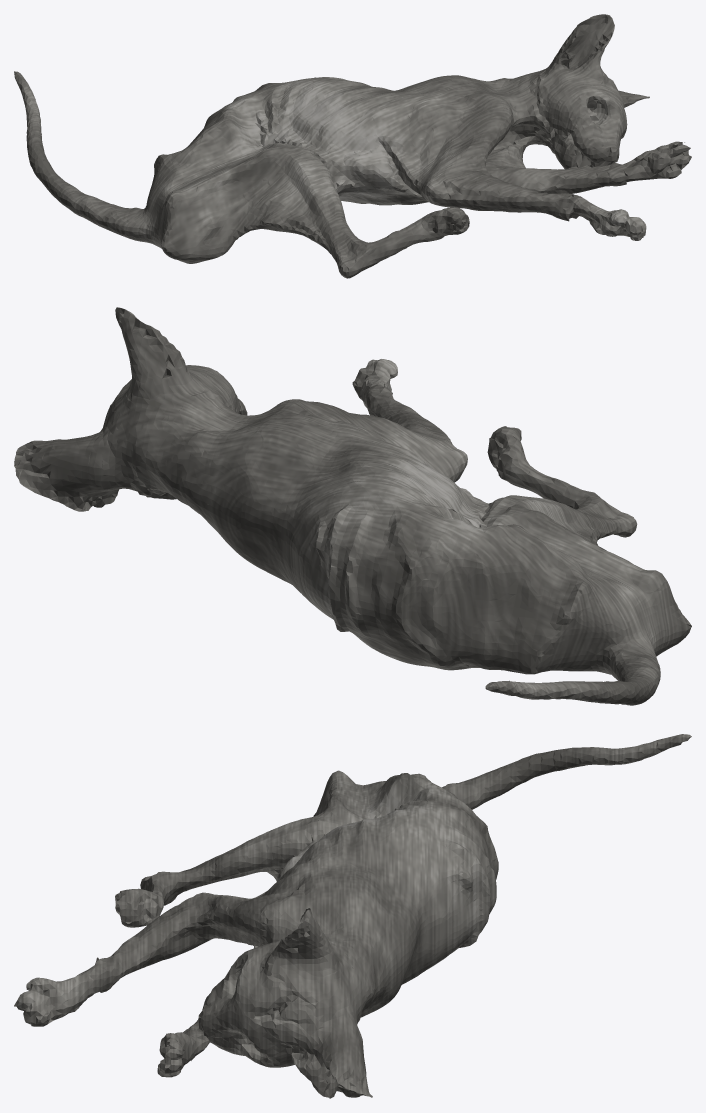
File: katze.glb
3 renders of one model, top to bottom at view 1: azimuth 30°, elevation 25°; view 2: azimuth 150°, elevation 25°; view 3: azimuth 270°, elevation 25°, orthographic. The views are drawn at different scales.
Visible parts, largest first — view 1: world; view 2: world; view 3: world.
Part boxes in pixels (bbox=[...]): world: bbox=[14, 14, 691, 278]; world: bbox=[14, 307, 691, 705]; world: bbox=[14, 734, 691, 1098].
Bounding box in the file's own units: 0.7212 × 0.2086 × 0.6367.
1 material, 1 textured.
